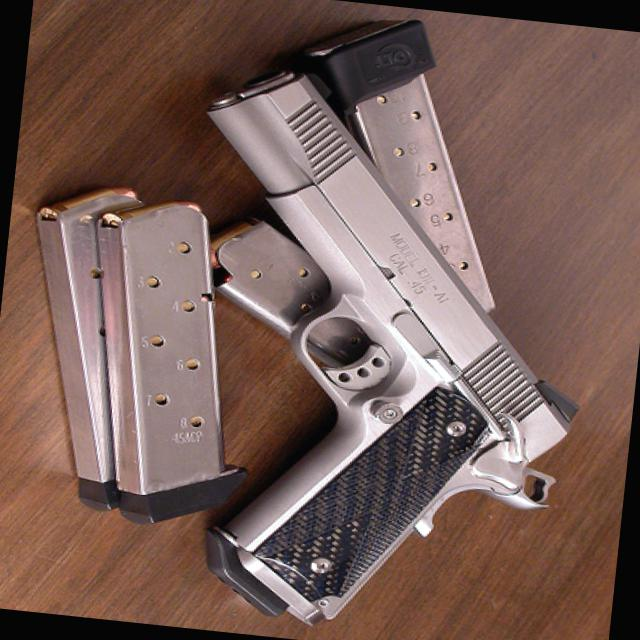handgun: (145, 60, 621, 639)
